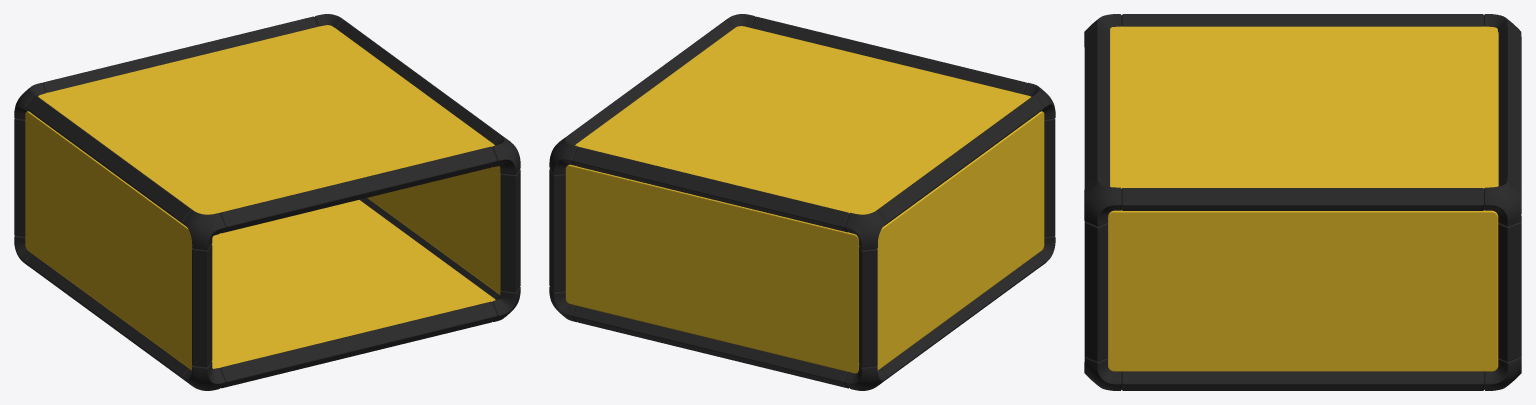
3 renders of one model, left to right at view 1: azimuth 30°, elevation 25°; view 2: azimuth 150°, elevation 25°; view 3: azimuth 270°, elevation 25°, orthographic. The views are drawn at different scales.
Parts seen in each view (by area): view 1: 374x374x154; view 2: 374x374x154; view 3: 374x374x154.
Boxes of the visible parts, box(x1,y1,x2,y2) form: 374x374x154: box(14, 14, 520, 390); 374x374x154: box(549, 14, 1055, 390); 374x374x154: box(1084, 14, 1521, 390).
Bounding box in the file's own units: 0.4517 × 0.2316 × 0.4513.
